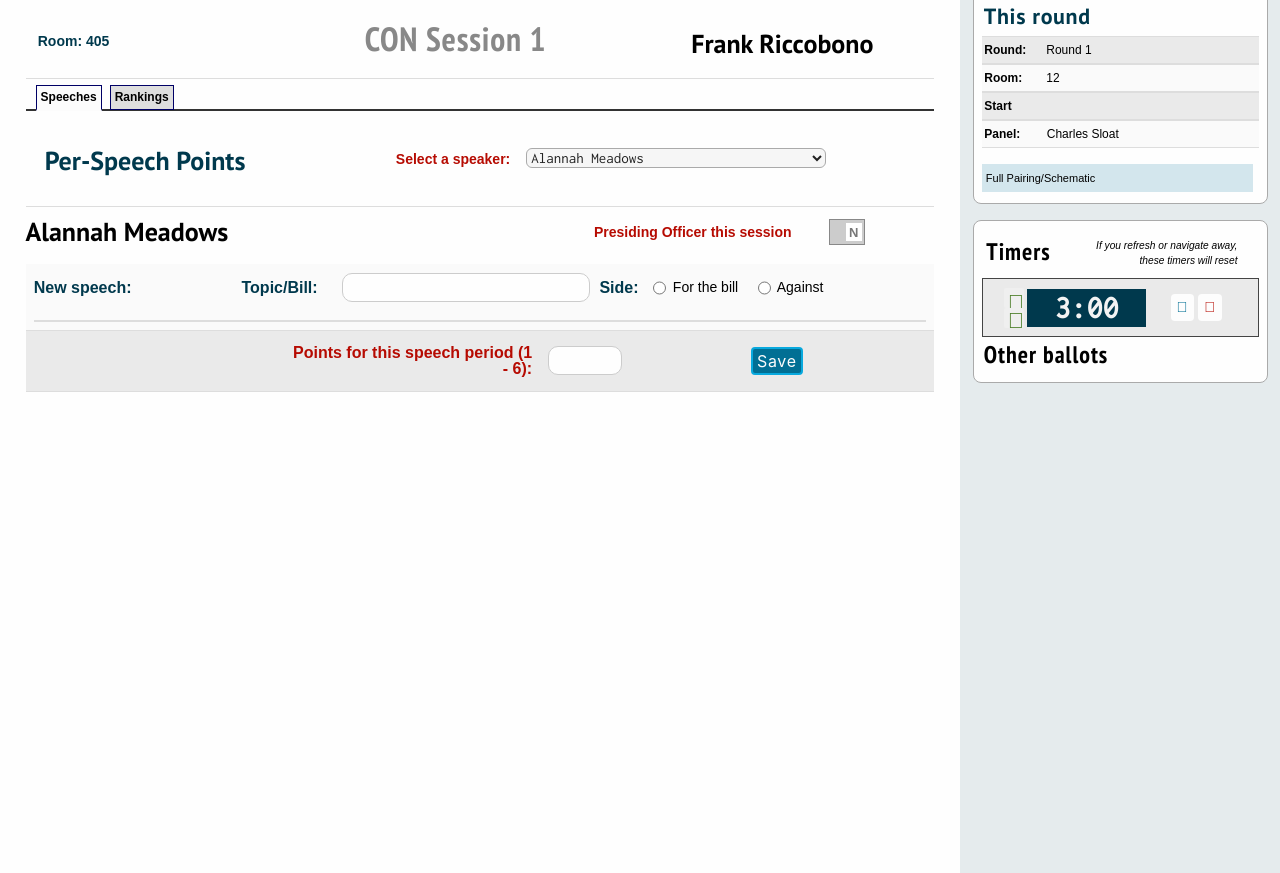
Congress Ballot › reports ranking errors
This screenshot has width=1280, height=873.
Click the button "Rankings".
click(142, 97)  # box [115,87,169,107]
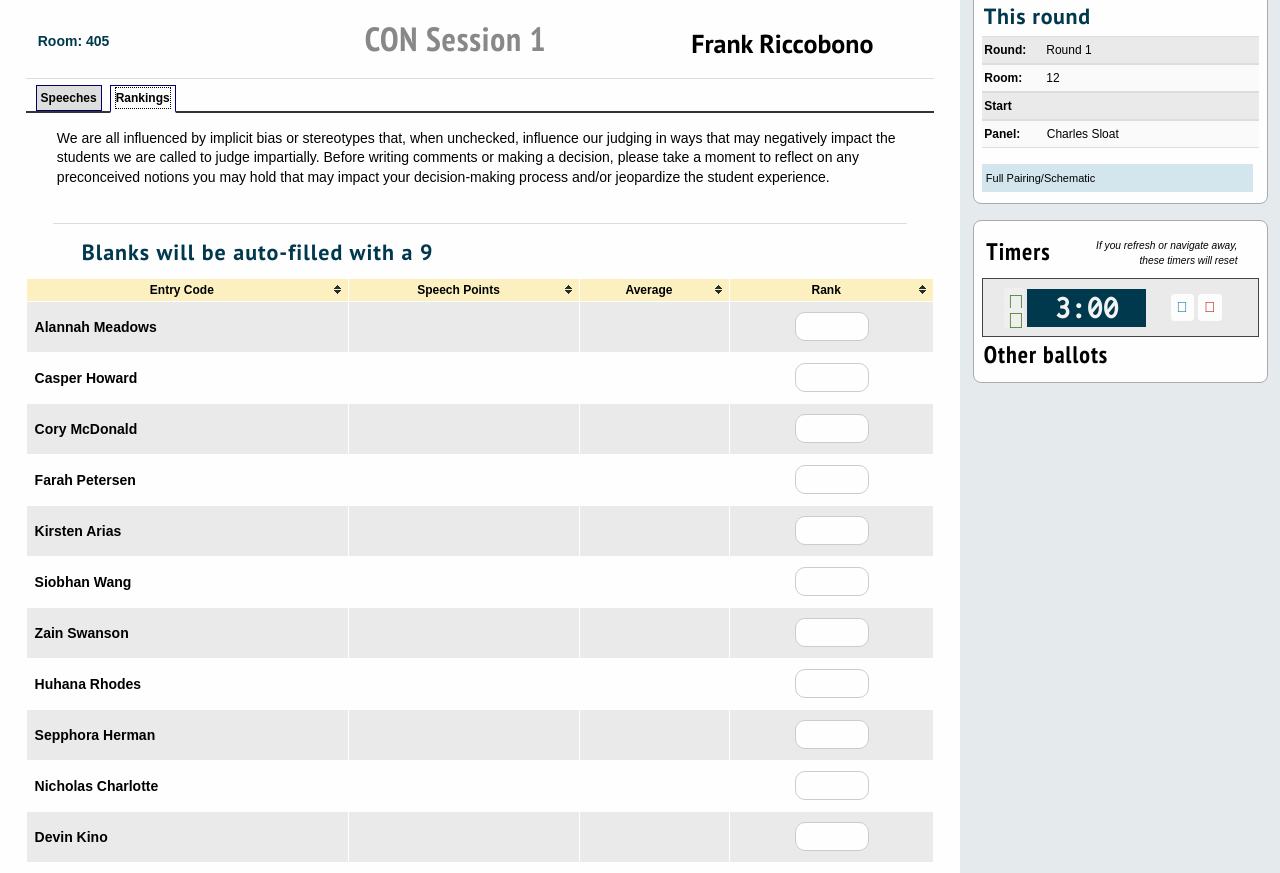
Type "1" into the number field labelled "Alannah Meadows".
click(832, 326); type("1")  # box [795,312,869,341]
(page scrolled)
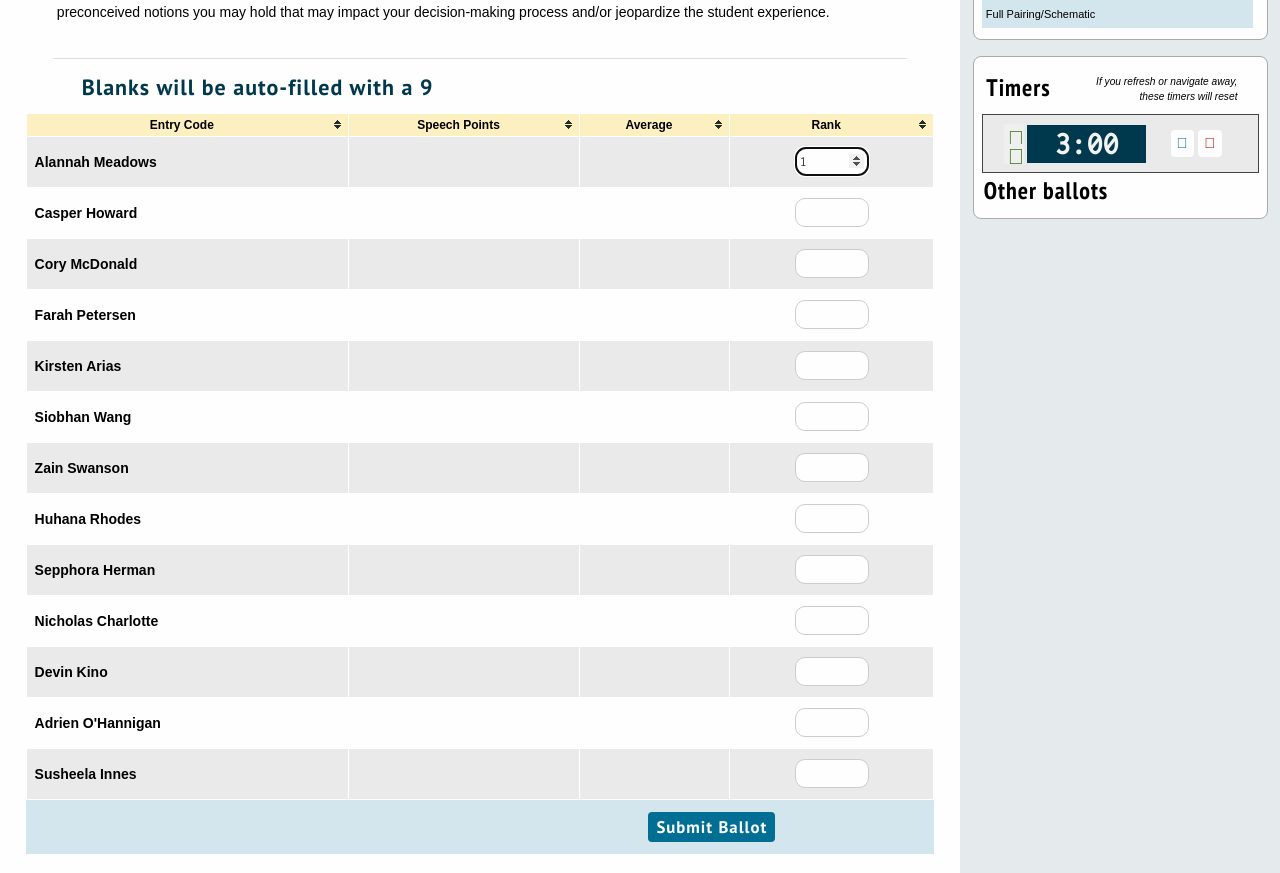
Click the button "Submit Ballot".
click(712, 827)  # box [648,812,775,842]
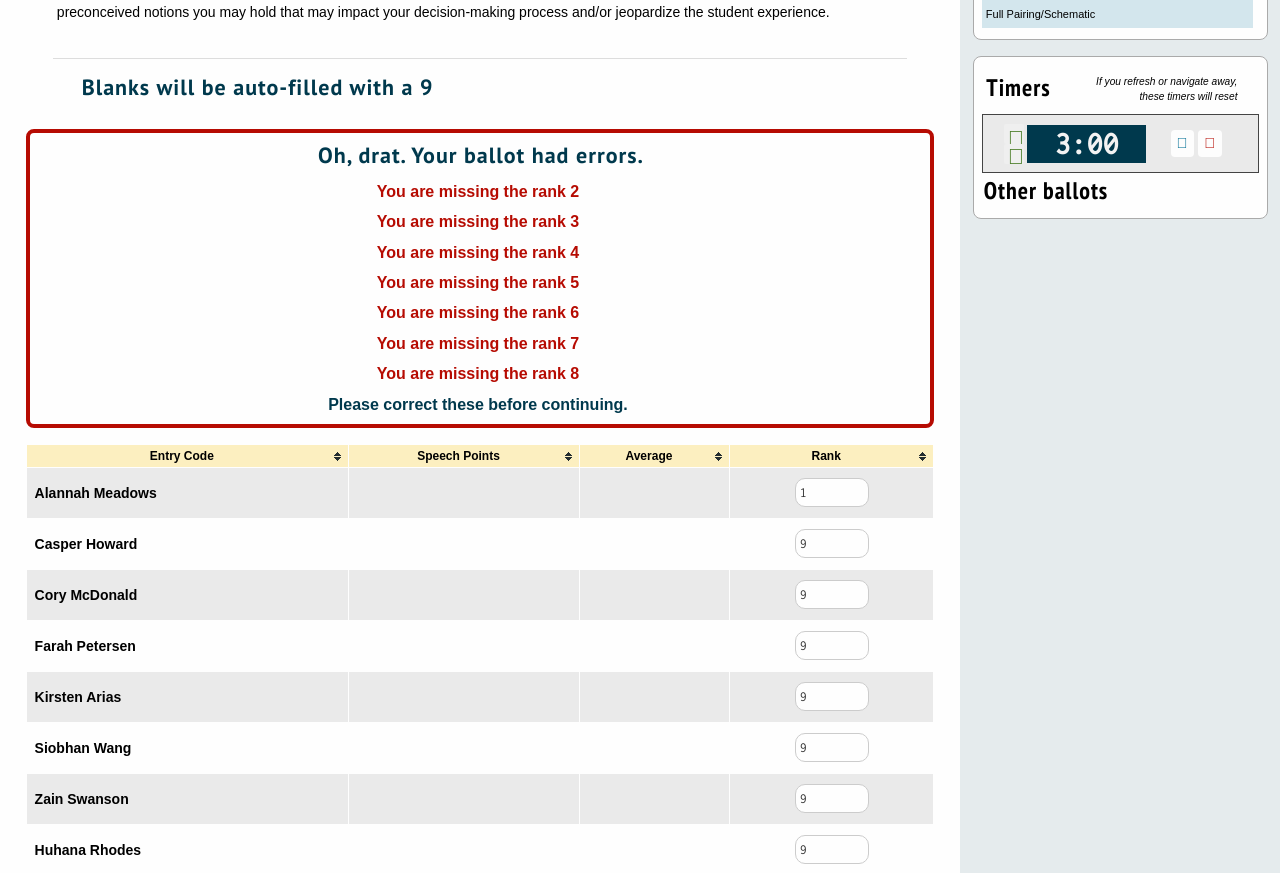
Expected: the heading "Oh, drat. Your ballot had errors." is shown, [318,141,644,169]
